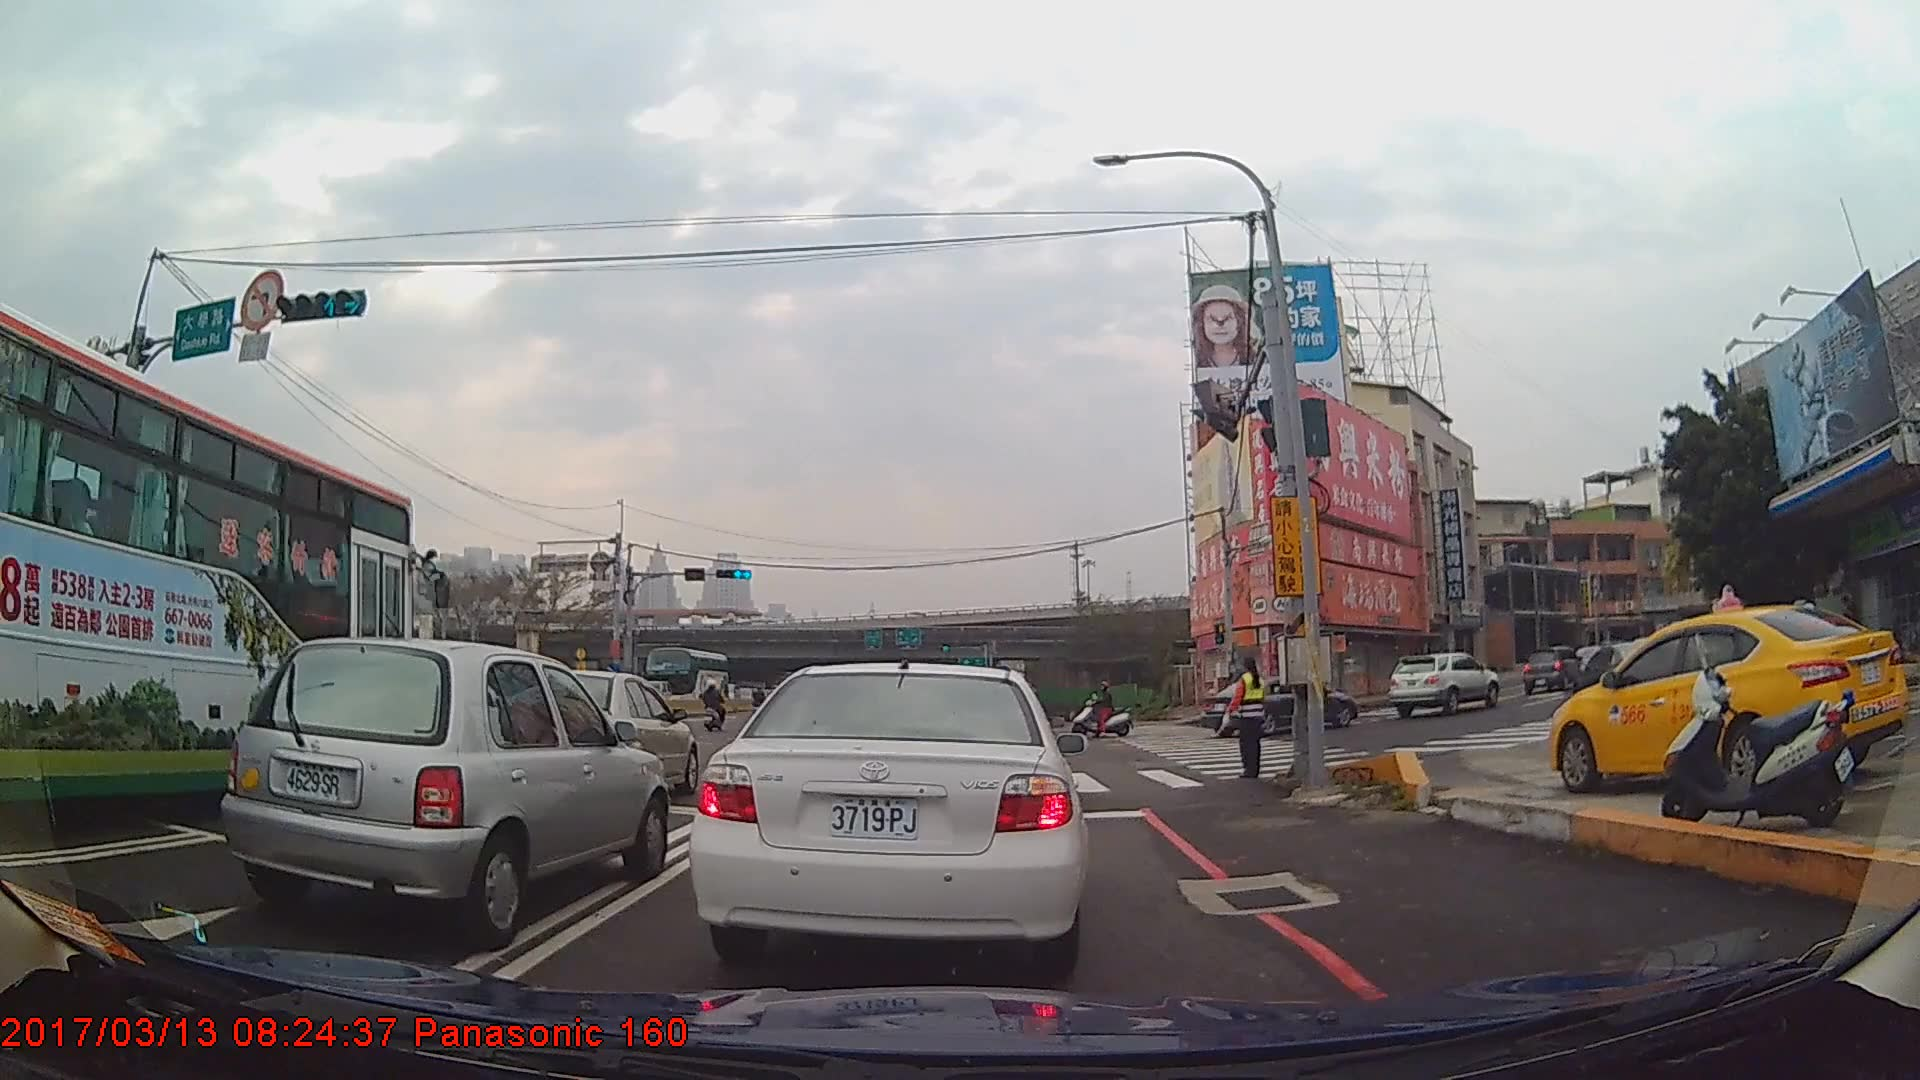pedestrian: (1223, 657, 1271, 779)
rider: (1073, 682, 1135, 740), (701, 678, 727, 735)
vehicle: (0, 297, 411, 841), (217, 637, 671, 946), (690, 661, 1085, 969), (1548, 603, 1906, 793), (504, 667, 700, 803), (1199, 675, 1358, 739), (1389, 651, 1498, 718), (645, 644, 729, 707), (1519, 647, 1584, 693)
